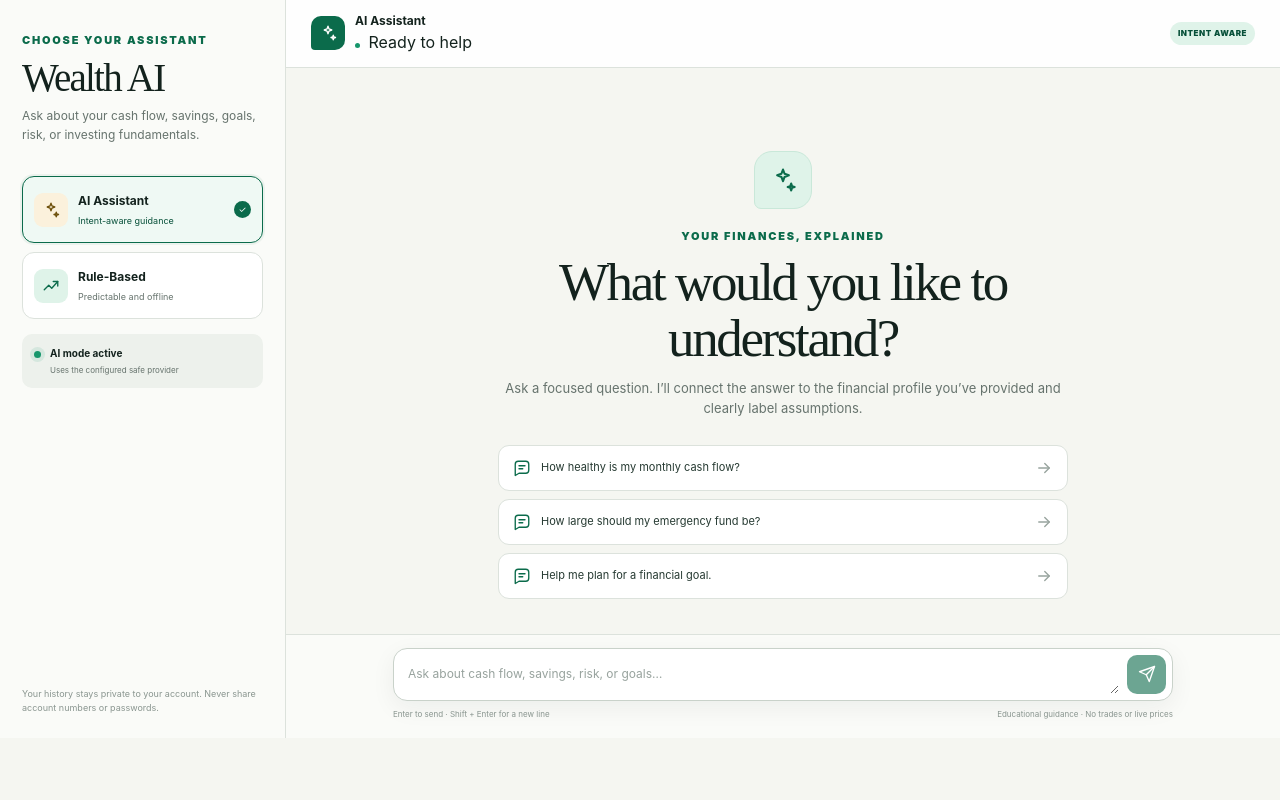
Test: ChatPage › renders a readable assistant answer with optional details
This screenshot has width=1280, height=800.
Type "How is my cash flow?" into the text box named "Your finance question" at (764, 675), box [408, 656, 1119, 694]
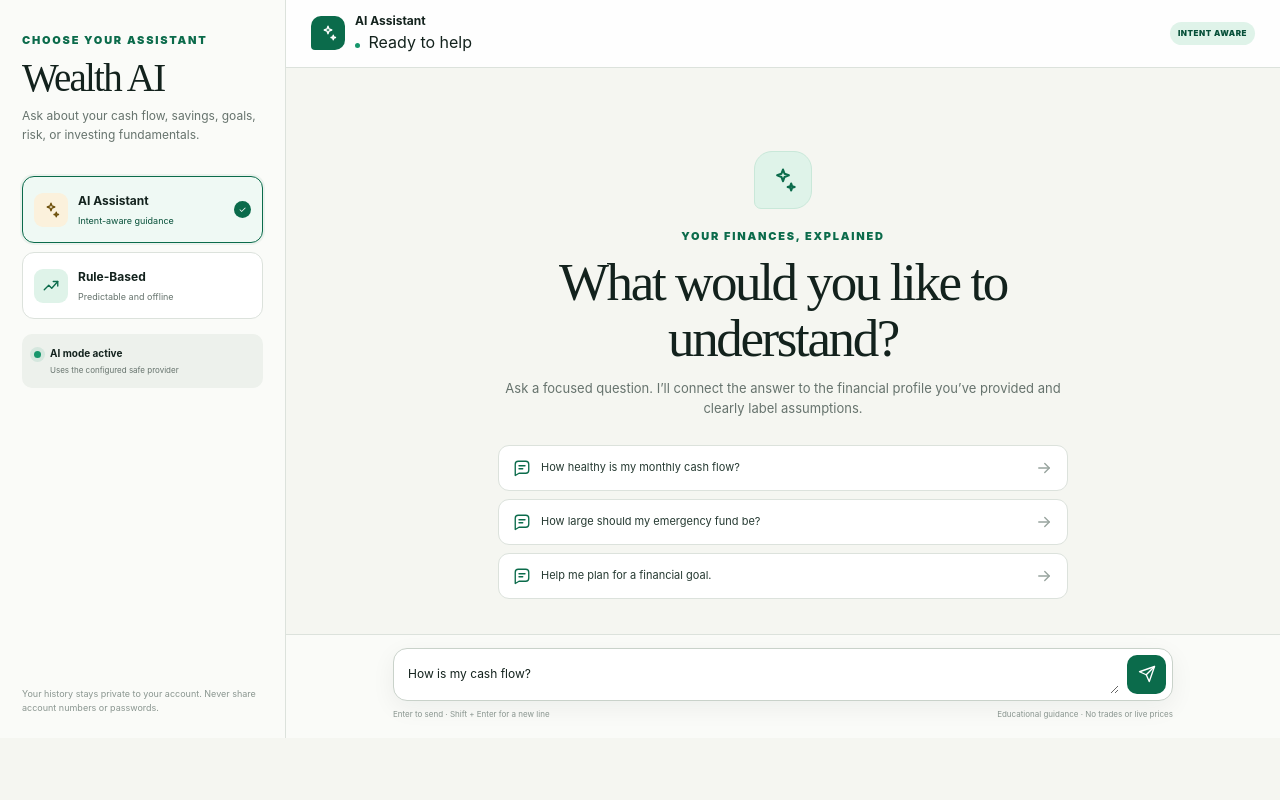
Click the button named "Send question" at (1146, 674), box [1127, 655, 1166, 694]
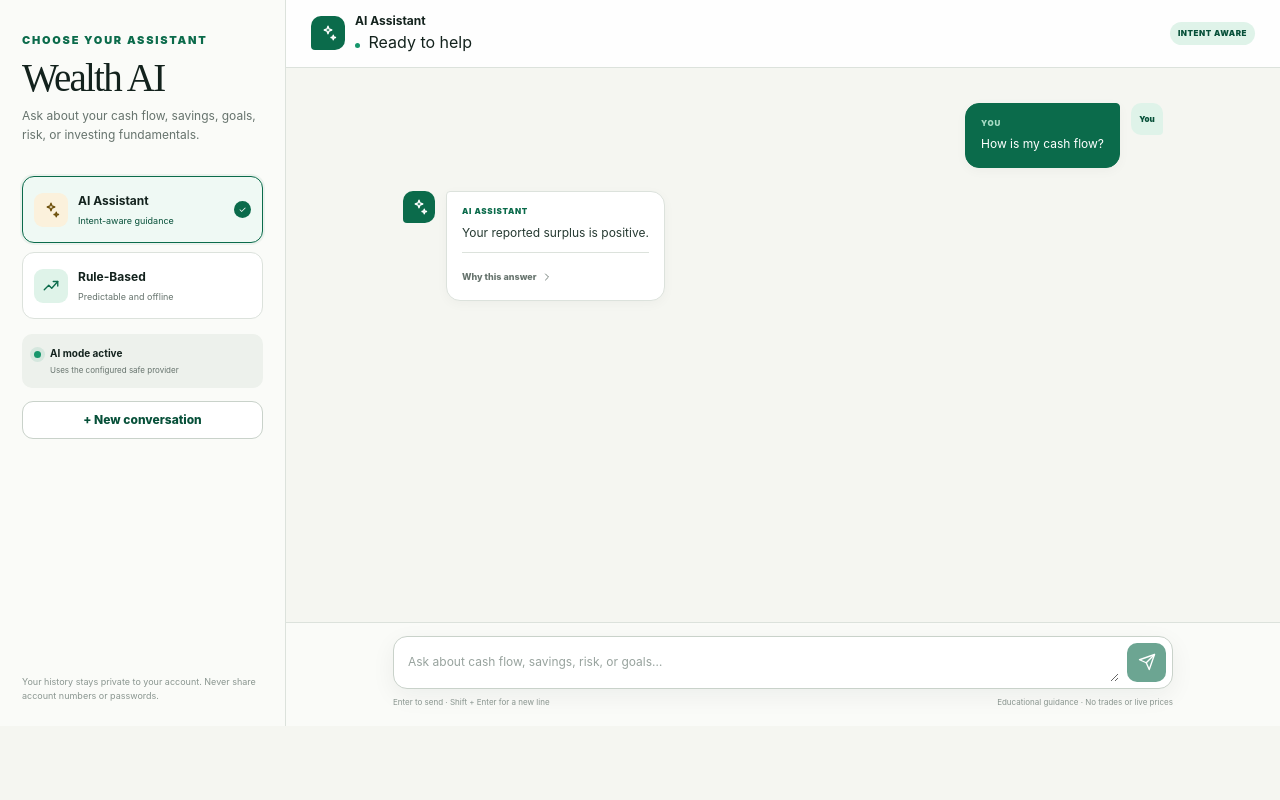
Result: the text "Your reported surplus is positive." is shown at [462, 223, 649, 242]
Result: the heading "Why this answer" is shown at [462, 268, 552, 286]
